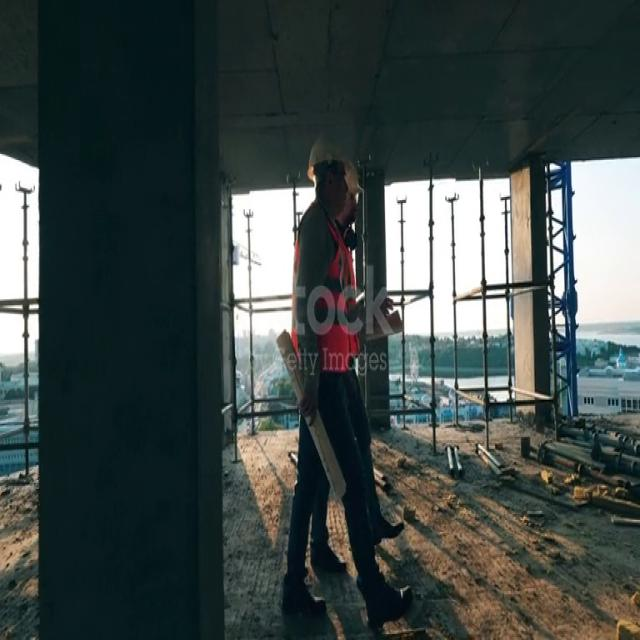capacete: (304, 124, 349, 178), (343, 156, 362, 205)
